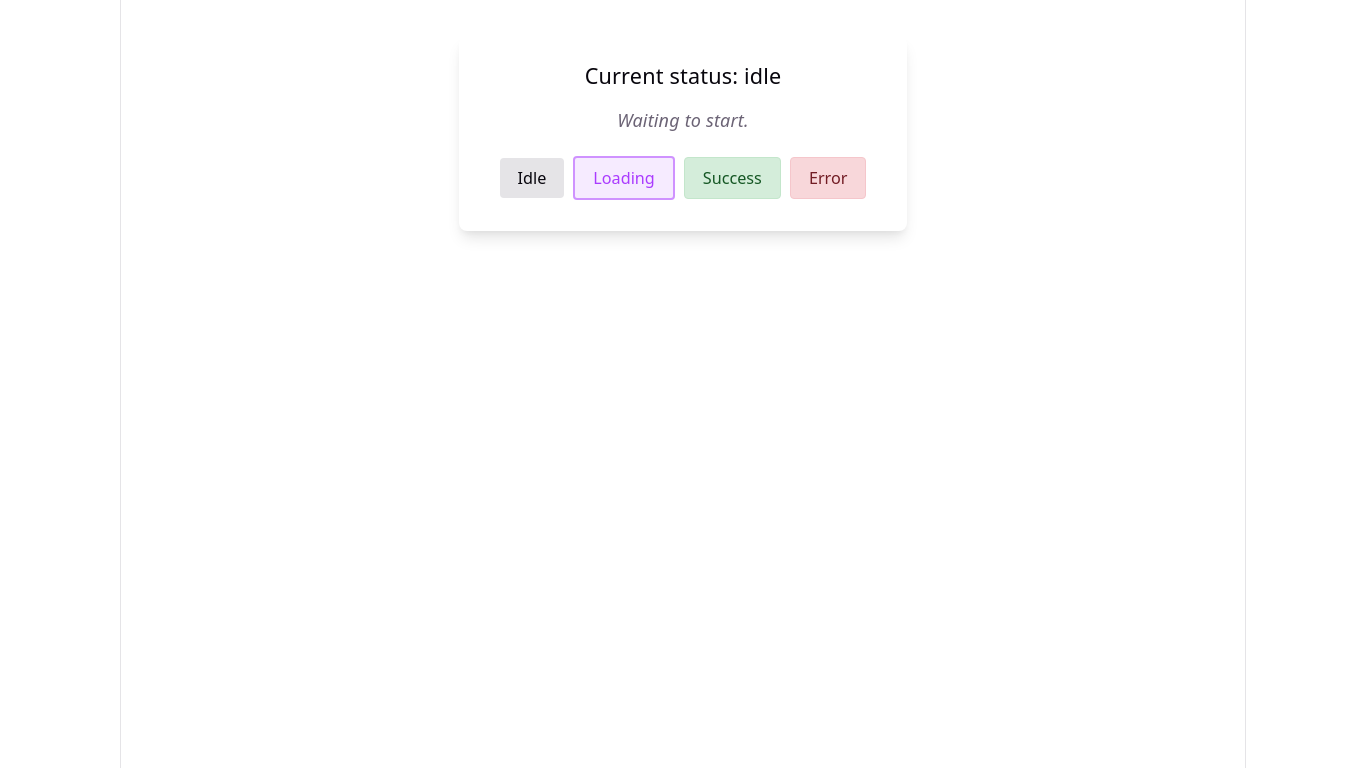
status message testing › clicking Idle brings it back to idle
Click the button "Loading". click: [624, 178]
box: [573,156,675,200]
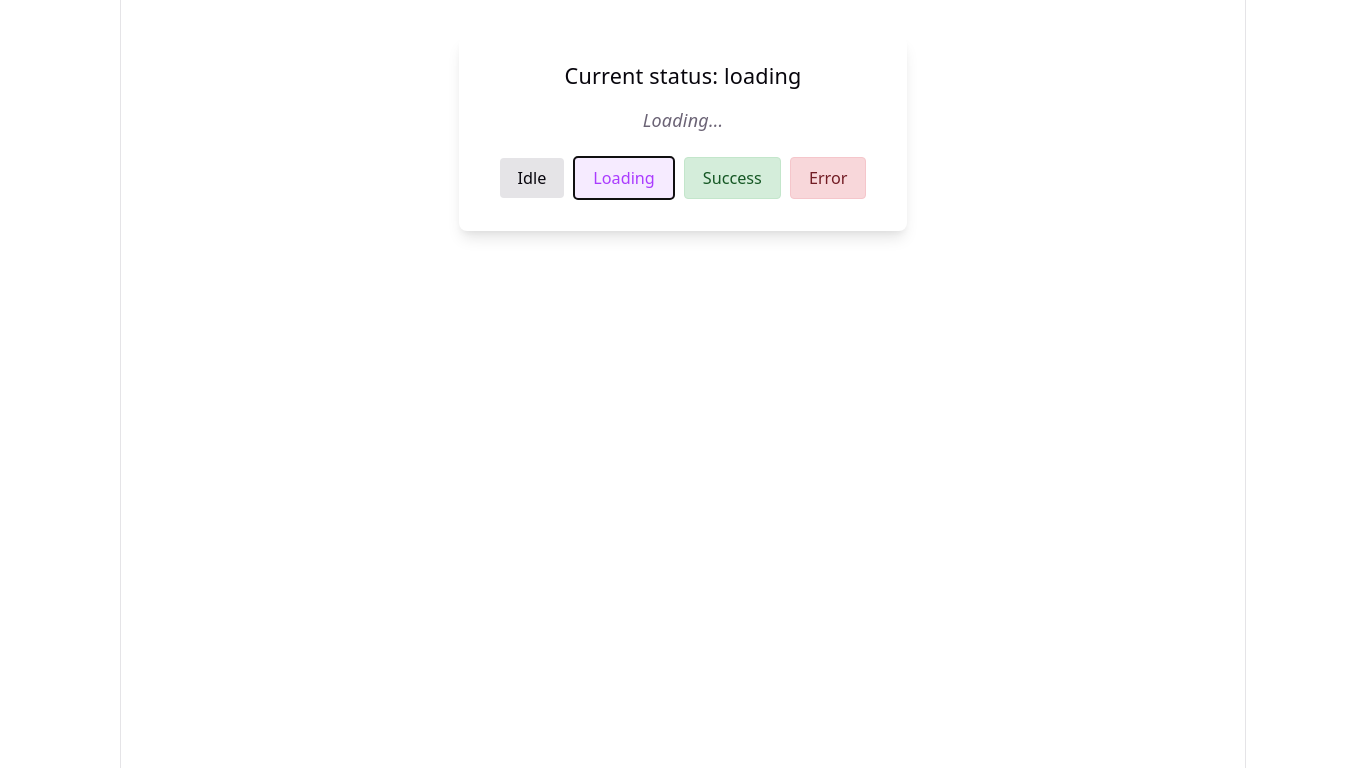
Click the button "Idle". click: [532, 178]
box: [500,158,564,198]
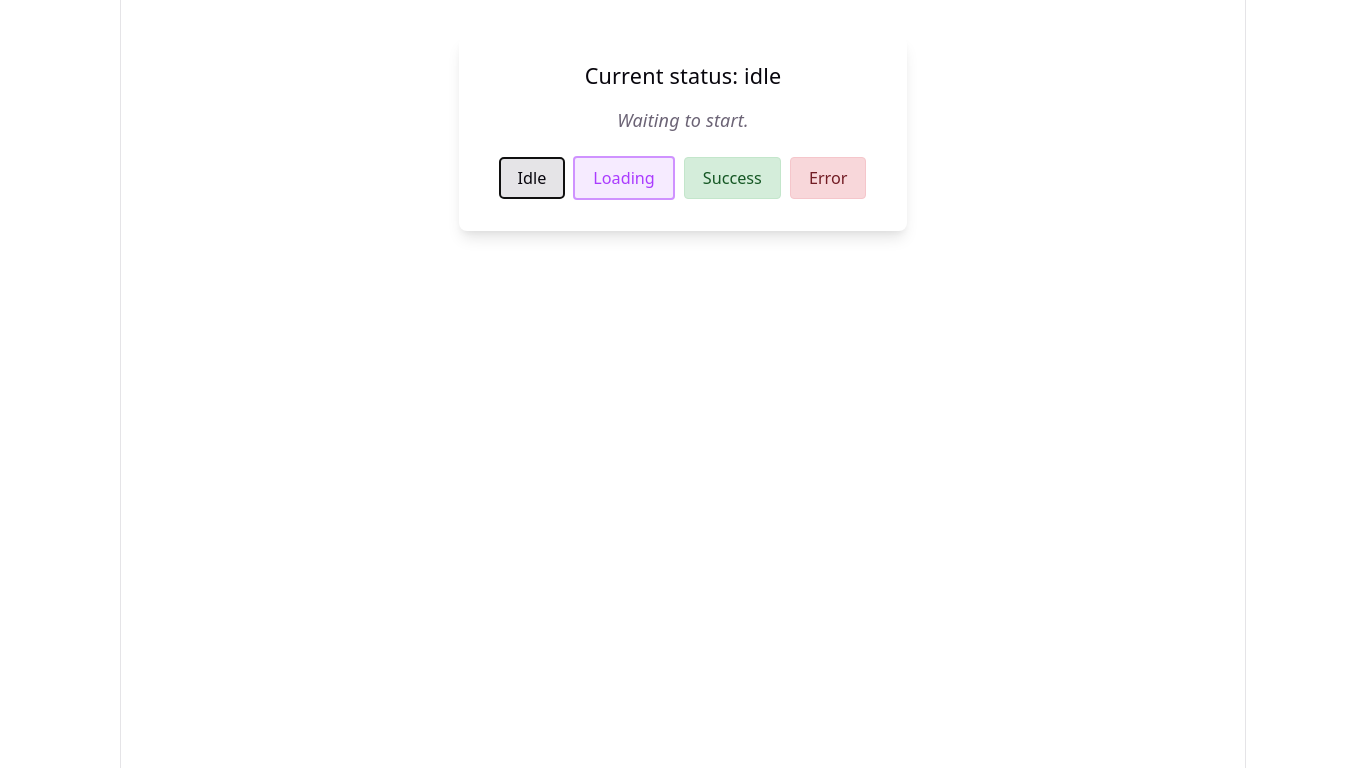
Expected: the text "Loading..." is not shown
Now the text "Waiting to start." is shown, box [617,108,749,132]
